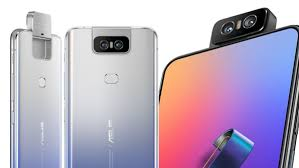asus: (62, 24, 163, 168)
